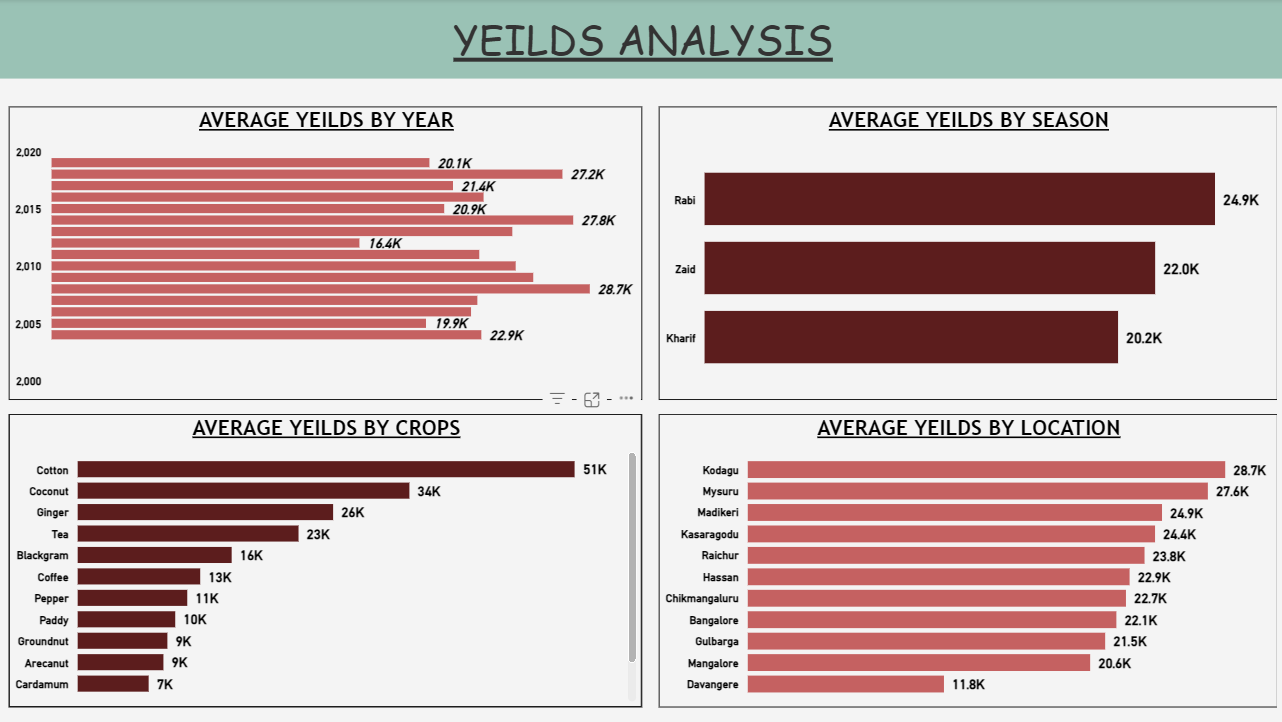

The dashboard page shown, as its layout file describes it:
{"tool":"powerbi","page":{"name":"YEILDS ANALYSIS","canvas":[1280,720],"ordinal":3},"visuals":[{"type":"shape","box":[0,0,1280.3,79.6],"z":0},{"type":"barChart","title":"AVERAGE YEILDS BY YEAR","fields":{"Category":["AGRICULTURE.YEAR"],"Y":["Sum(AGRICULTURE.YEILDS)"]},"box":[8.7,107,630.7,292.3],"z":1000},{"type":"barChart","title":"AVERAGE YEILDS BY SEASON","fields":{"Y":["Sum(AGRICULTURE.YEILDS)"],"Category":["AGRICULTURE.SEASON"]},"box":[655.6,107,615.8,292.3],"z":2000},{"type":"barChart","title":"AVERAGE YEILDS BY CROPS","fields":{"Y":["Sum(AGRICULTURE.YEILDS)"],"Category":["AGRICULTURE.CROPS"]},"box":[8.7,413,630.7,292.3],"z":3000},{"type":"barChart","title":"AVERAGE YEILDS BY LOCATION","fields":{"Category":["AGRICULTURE.LOCATION"],"Y":["Sum(AGRICULTURE.YEILDS)"]},"box":[655.6,413,615.8,292.3],"z":4000}]}

Visuals, with their boxes in screenshot pixels (x1, y1, x2, y2), scaled from the page's 1280x720 canvas onto the 1282x722 screenshot:
shape: [0, 0, 1281, 80]
"AVERAGE YEILDS BY YEAR" barChart: [9, 107, 640, 400]
"AVERAGE YEILDS BY SEASON" barChart: [657, 107, 1273, 400]
"AVERAGE YEILDS BY CROPS" barChart: [9, 414, 640, 707]
"AVERAGE YEILDS BY LOCATION" barChart: [657, 414, 1273, 707]
